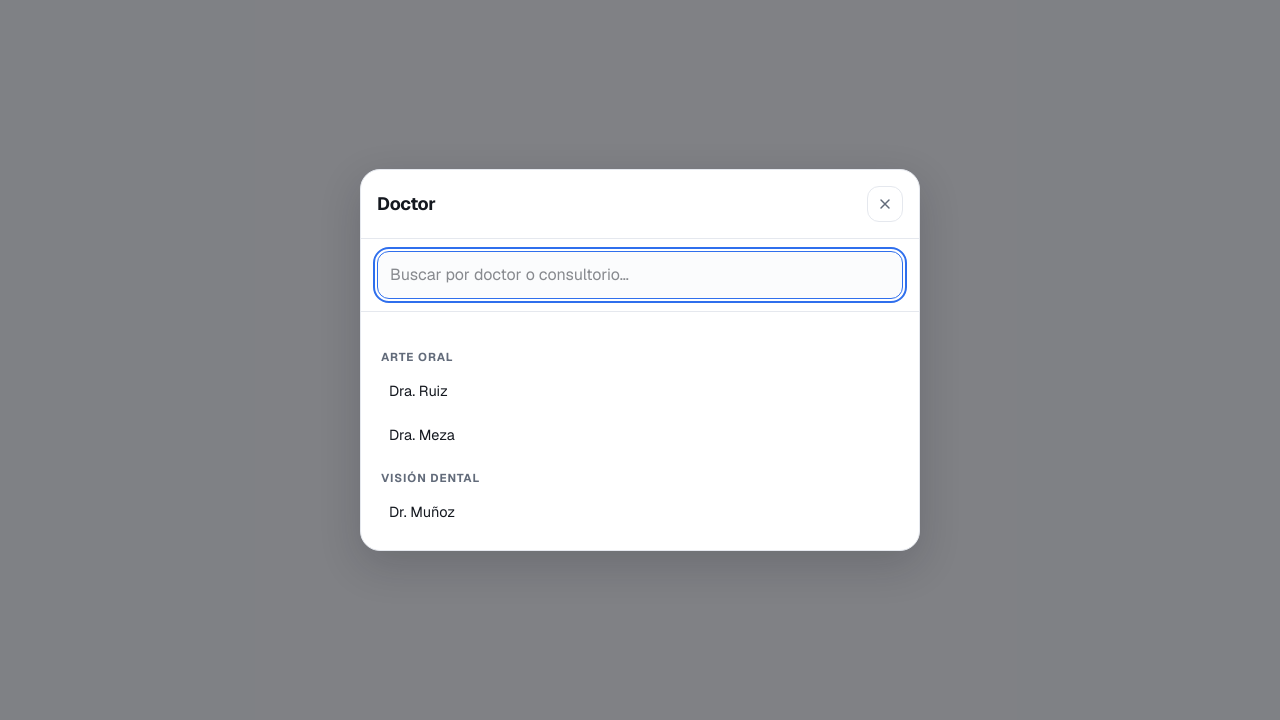
Test: DoctorSheet › al escribir, filtra de inmediato
The width and height of the screenshot is (1280, 720).
Type "ruiz" into the field named "buscar doctor" at (640, 275), box [377, 251, 903, 299]
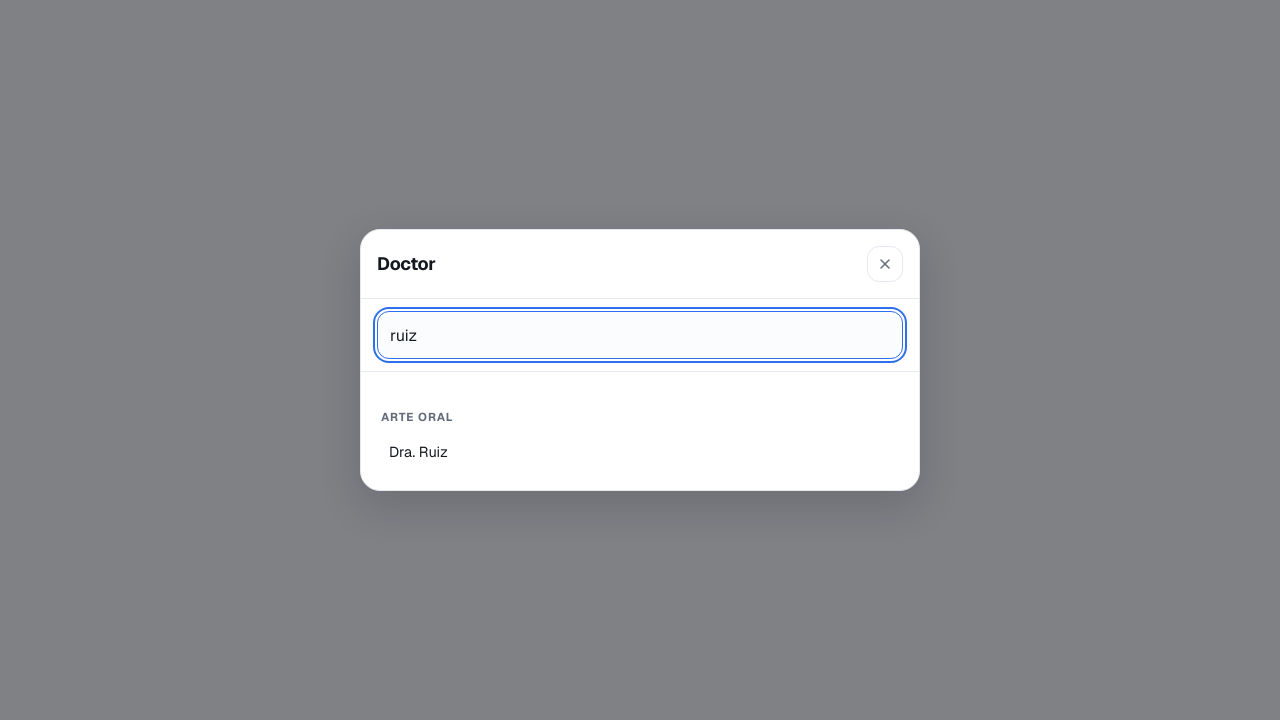
Expected: the button "Dra. Ruiz" is shown, [377, 430, 903, 474]
Now the button "Dr. Muñoz" is gone
